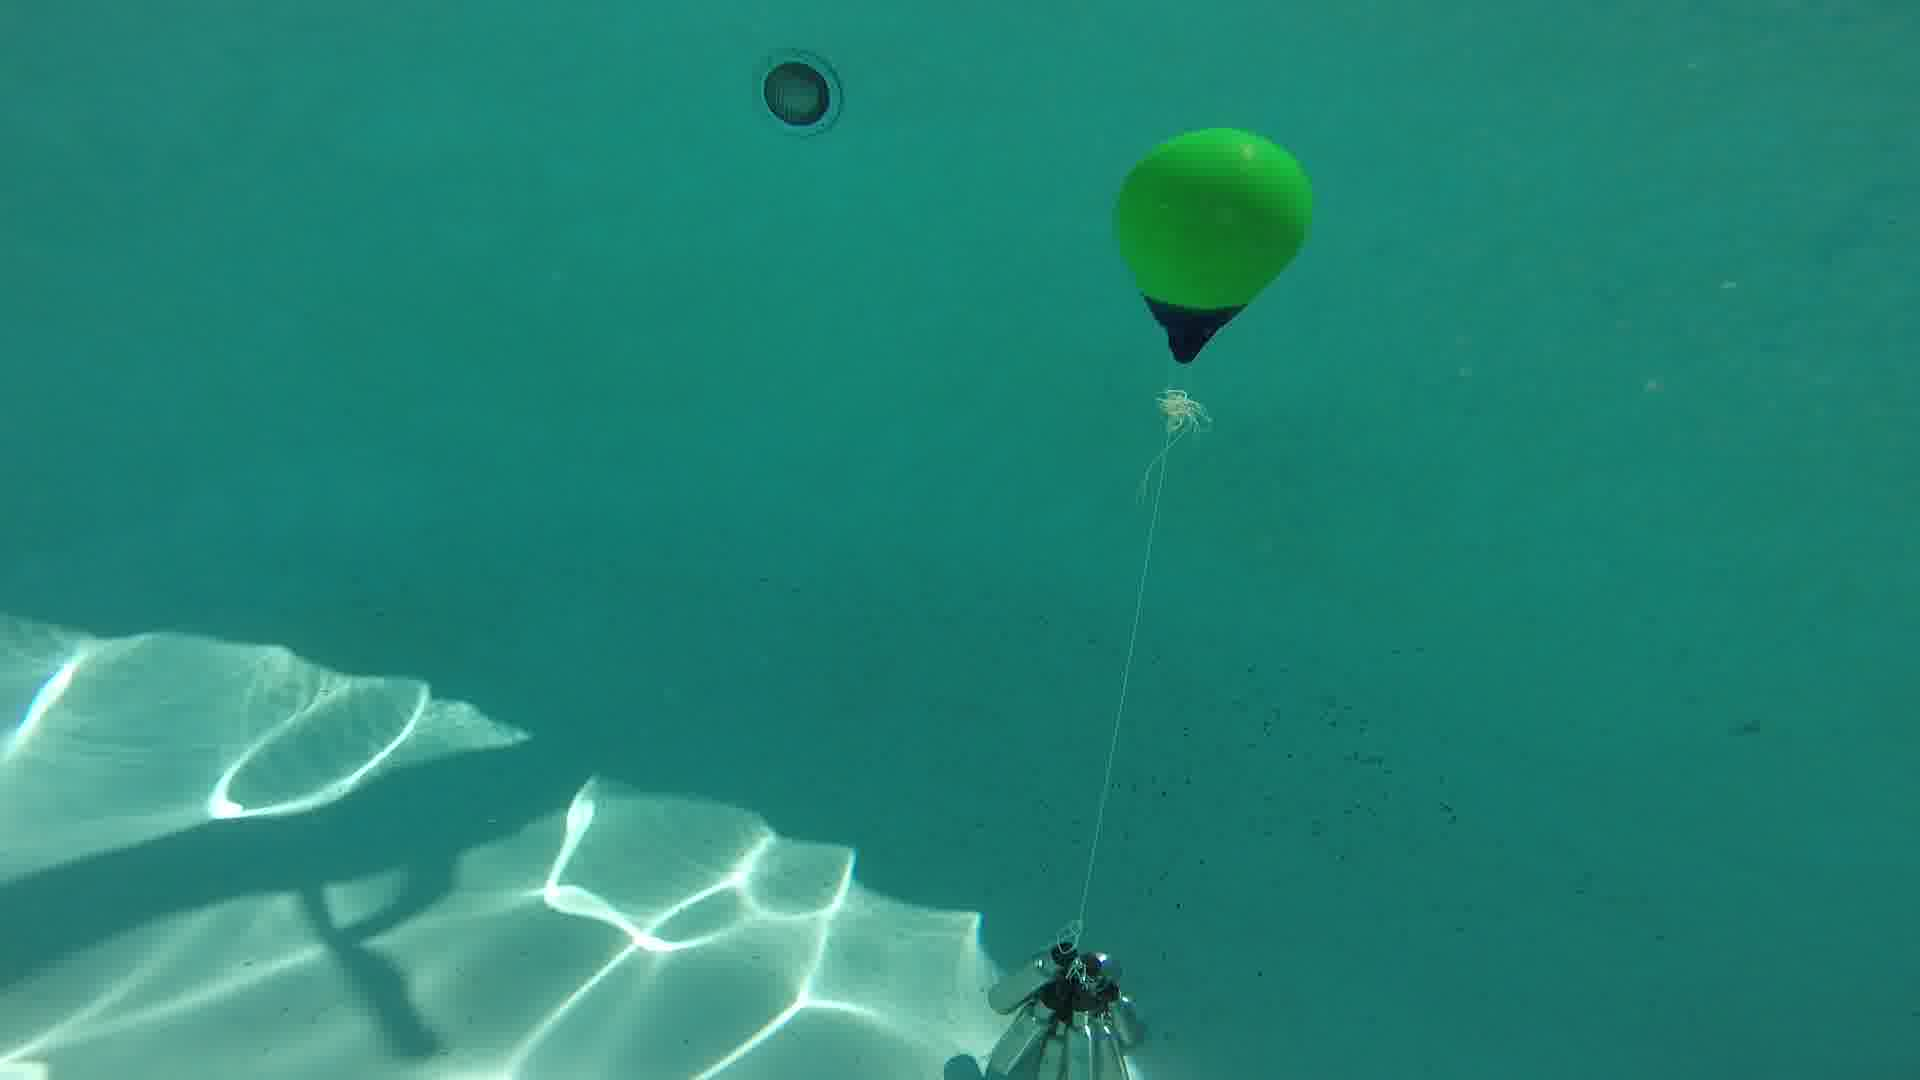yellow_buoy: (1116, 124, 1313, 368)
